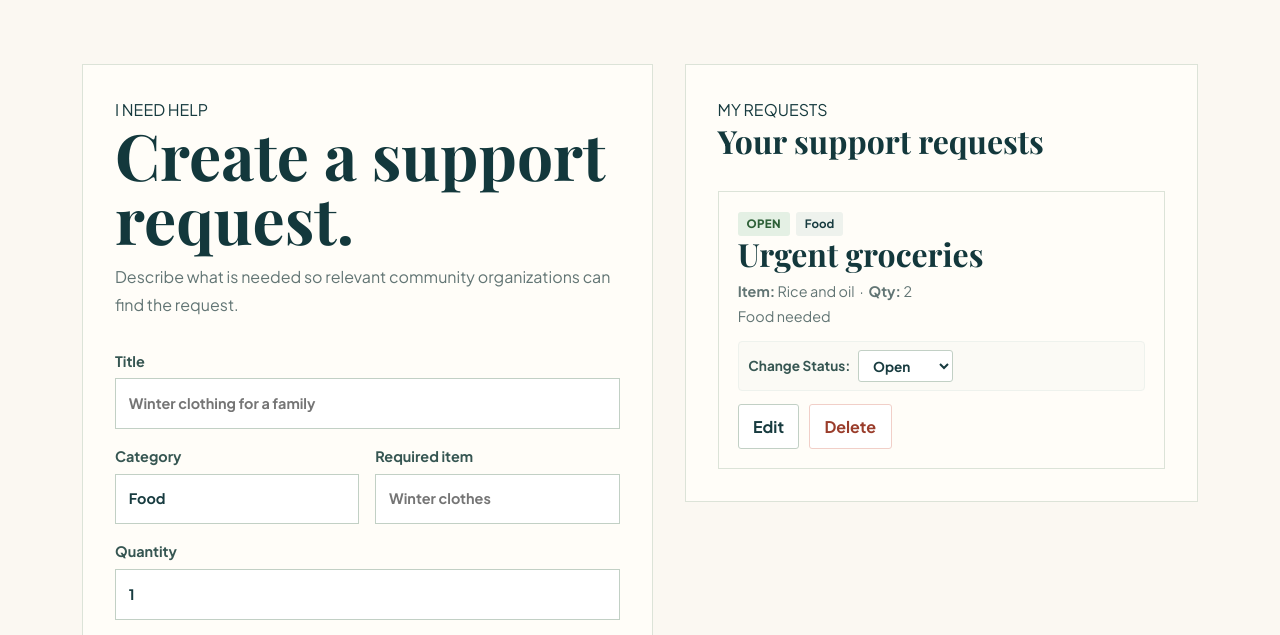
Feature 11: HelpRequestsPage Component › Delete confirmation appears before deleting a request
Expected: the heading "Urgent groceries" is shown, [738, 232, 983, 275]
Click the button "Delete": [850, 427] box [809, 404, 892, 449]
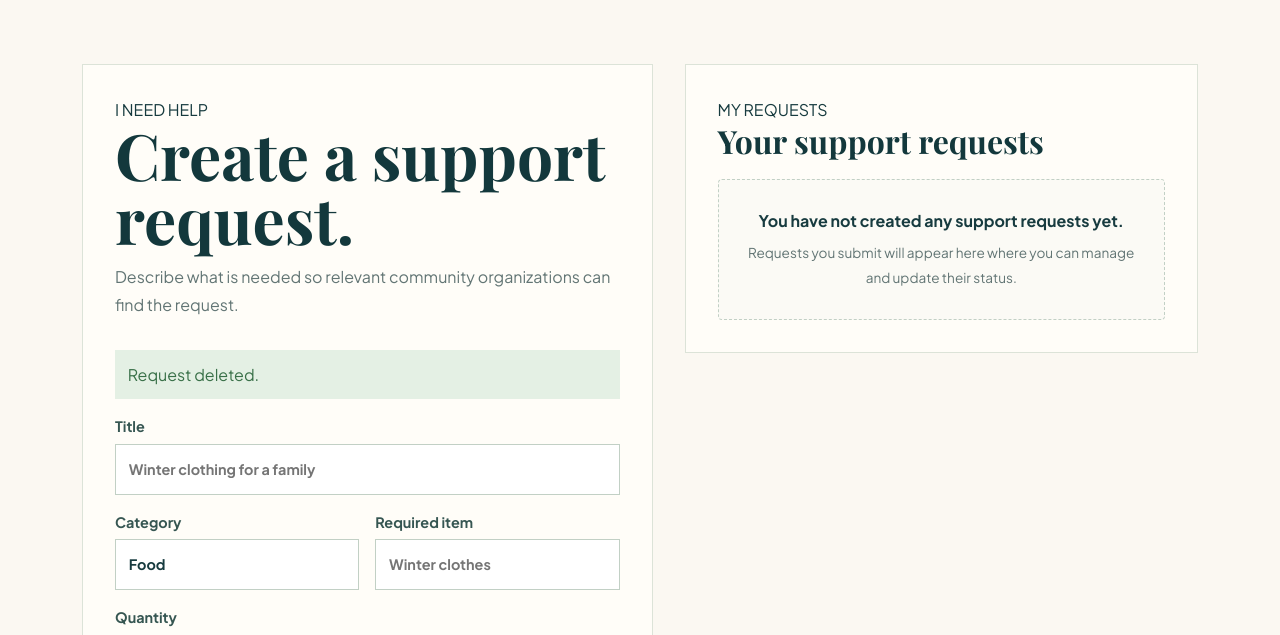
Result: the heading "Urgent groceries" is gone
